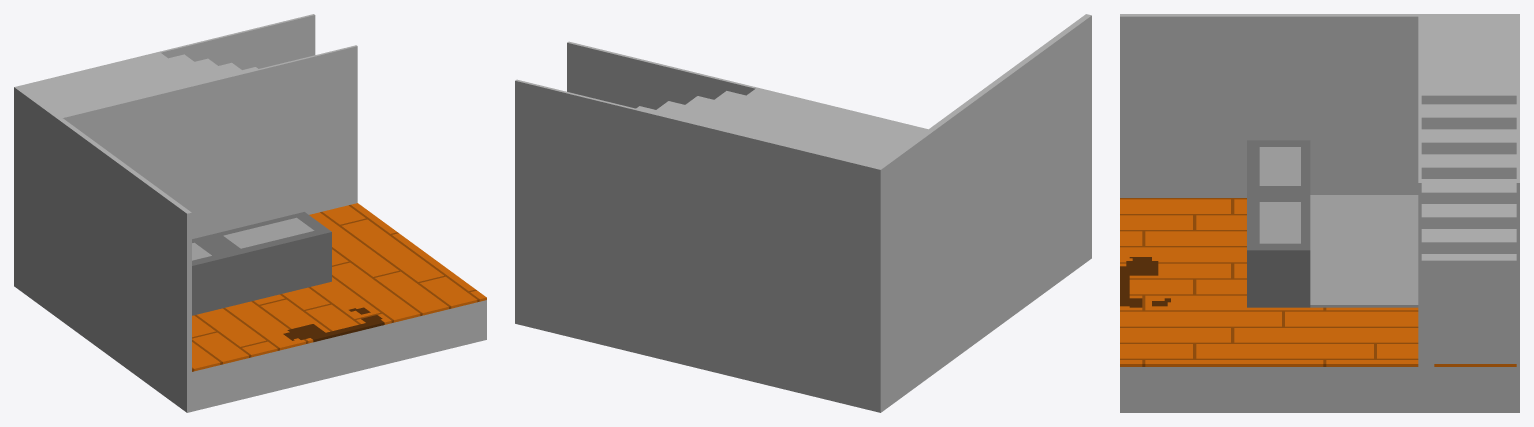
File: 2x2 first 1(2)-0.obj
The picture shows the model from 3 angles, left to right: view 1: azimuth 30°, elevation 25°; view 2: azimuth 150°, elevation 25°; view 3: azimuth 270°, elevation 25°; orthographic projection. The views are drawn at different scales.
Visible parts, largest first — view 1: 2x2 first 1(2)-0; view 2: 2x2 first 1(2)-0; view 3: 2x2 first 1(2)-0.
Part boxes in pixels (x1,y1,x2,y2): 2x2 first 1(2)-0: [14, 14, 486, 412]; 2x2 first 1(2)-0: [515, 14, 1091, 412]; 2x2 first 1(2)-0: [1120, 14, 1519, 412].
Bounding box in the file's own units: 126 × 80 × 126.
Materials: 1 (1 with a texture image).
